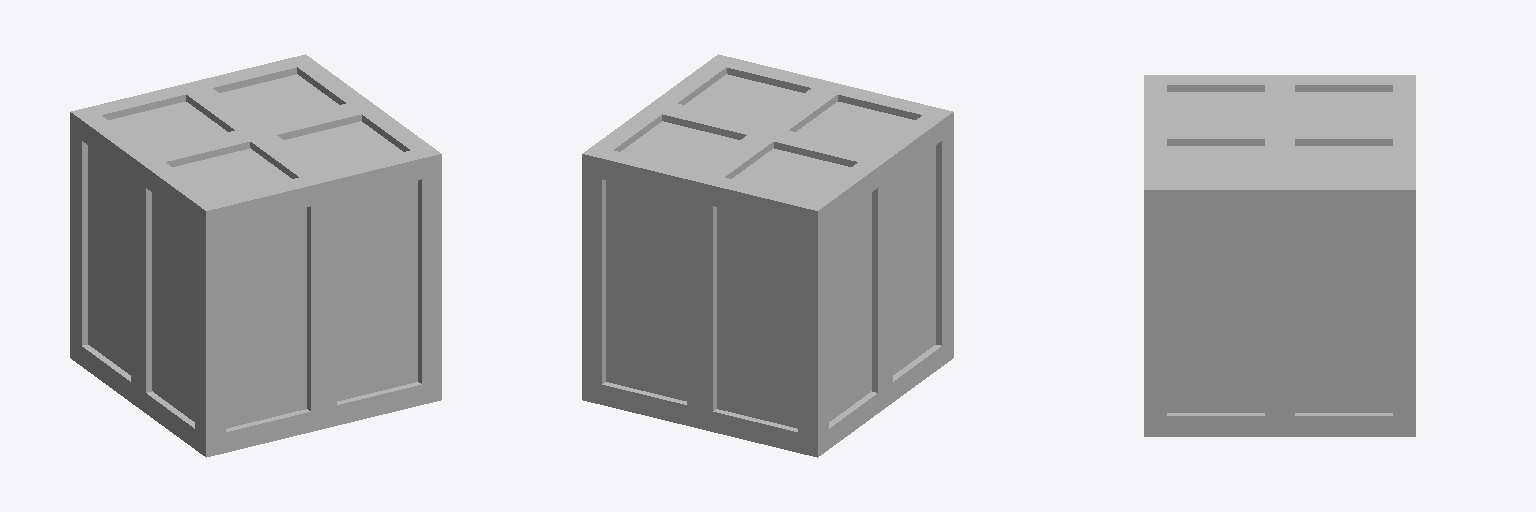
The model's file is SC_Crate.obj.
3 renders of one model, left to right at view 1: azimuth 30°, elevation 25°; view 2: azimuth 150°, elevation 25°; view 3: azimuth 270°, elevation 25°, orthographic.
Parts seen in each view (by area): view 1: SC_Crate; view 2: SC_Crate; view 3: SC_Crate.
Boxes of the visible parts, <box> form: SC_Crate: <box>70,54,441,457</box>; SC_Crate: <box>582,54,953,457</box>; SC_Crate: <box>1144,75,1415,436</box>.
Bounding box in the file's own units: 36 × 36 × 36.